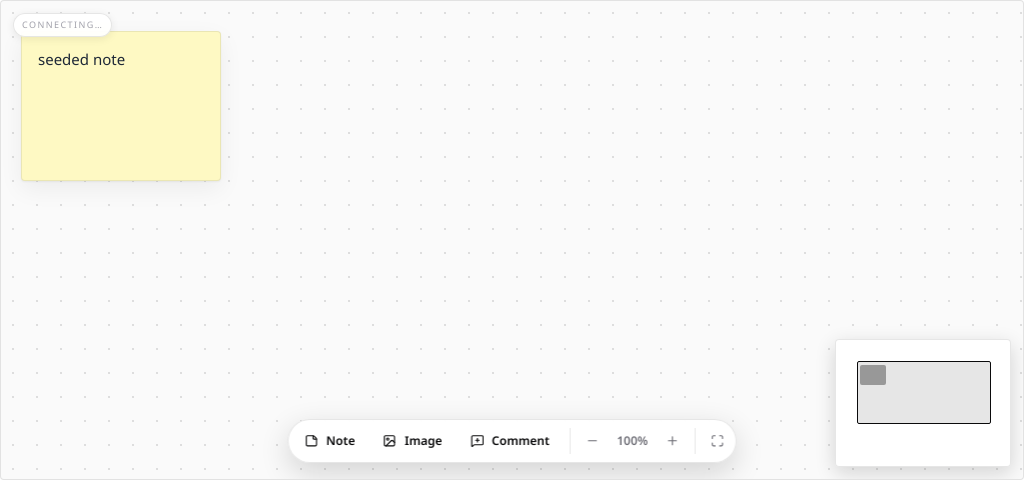
Test: BoardCanvas › deleting a card › leaves the card untouched when the confirm is cancelled
Press the mouse on the text "seeded note": (82, 59) [38, 49, 125, 69]
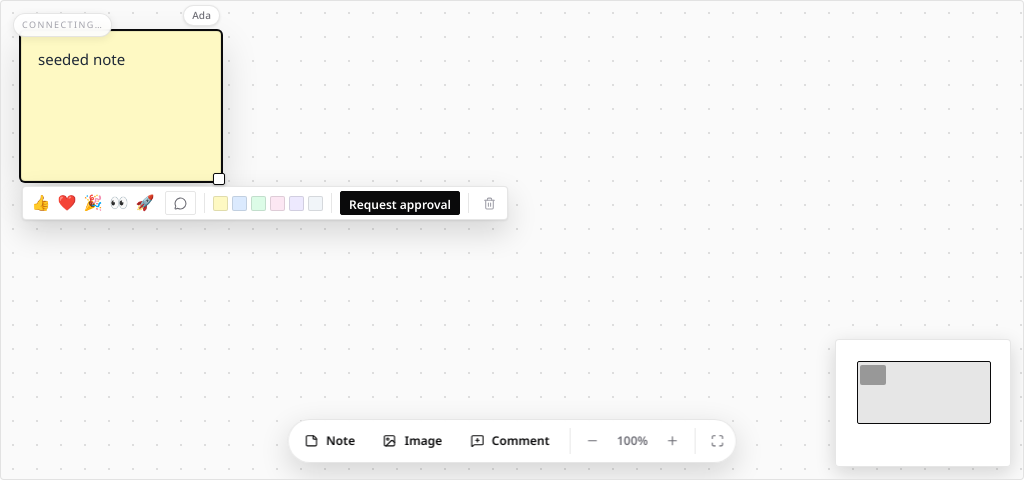
Click the button named "Delete card": (489, 203) [477, 191, 501, 215]
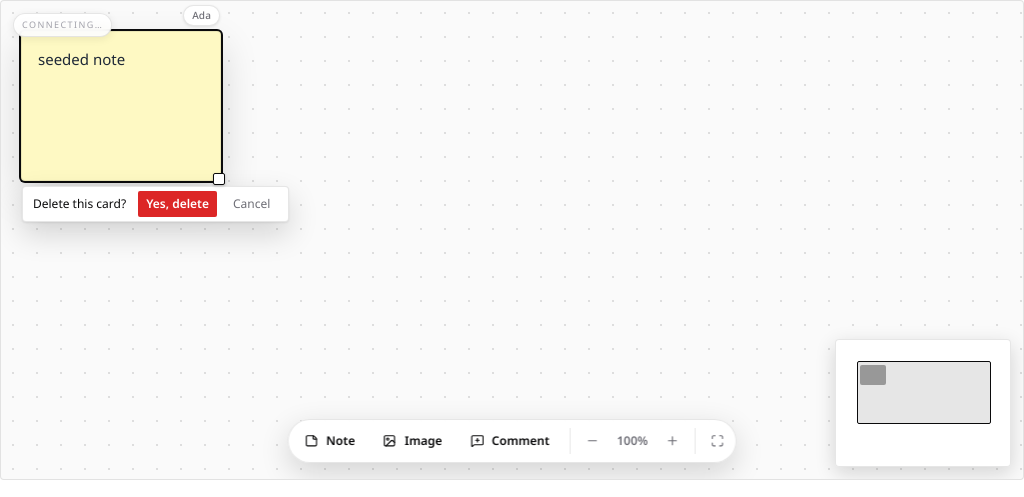
Click the button "Cancel": (252, 204) [225, 191, 278, 217]
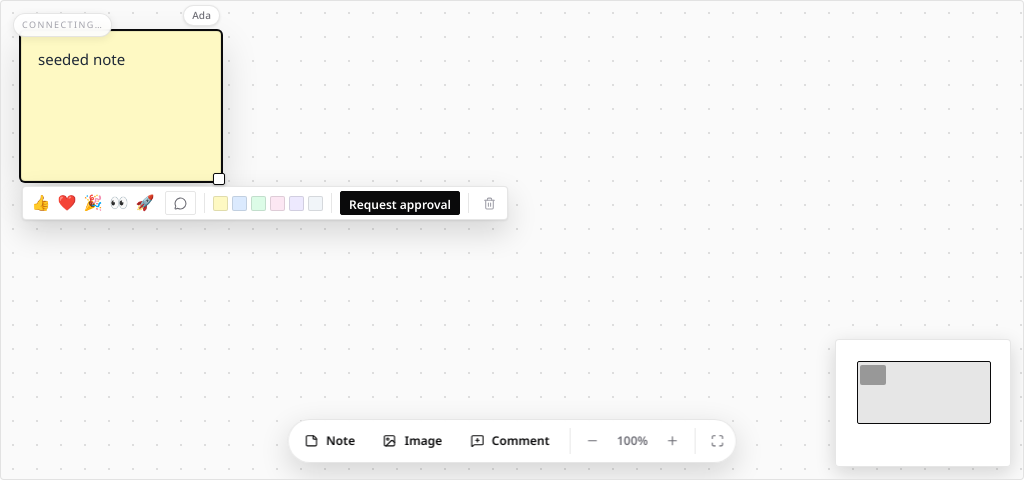
Check: the text "Delete this card?" is gone
Check: the button named "Delete card" is shown, box [477, 191, 501, 215]
